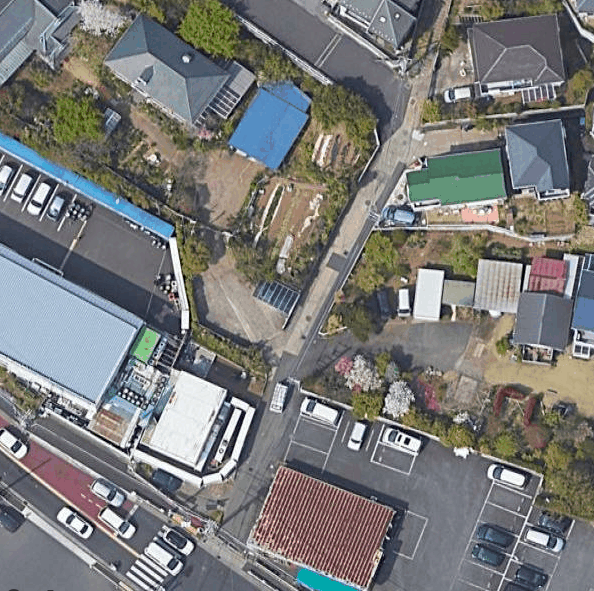flatroof: (0, 251, 140, 423)
